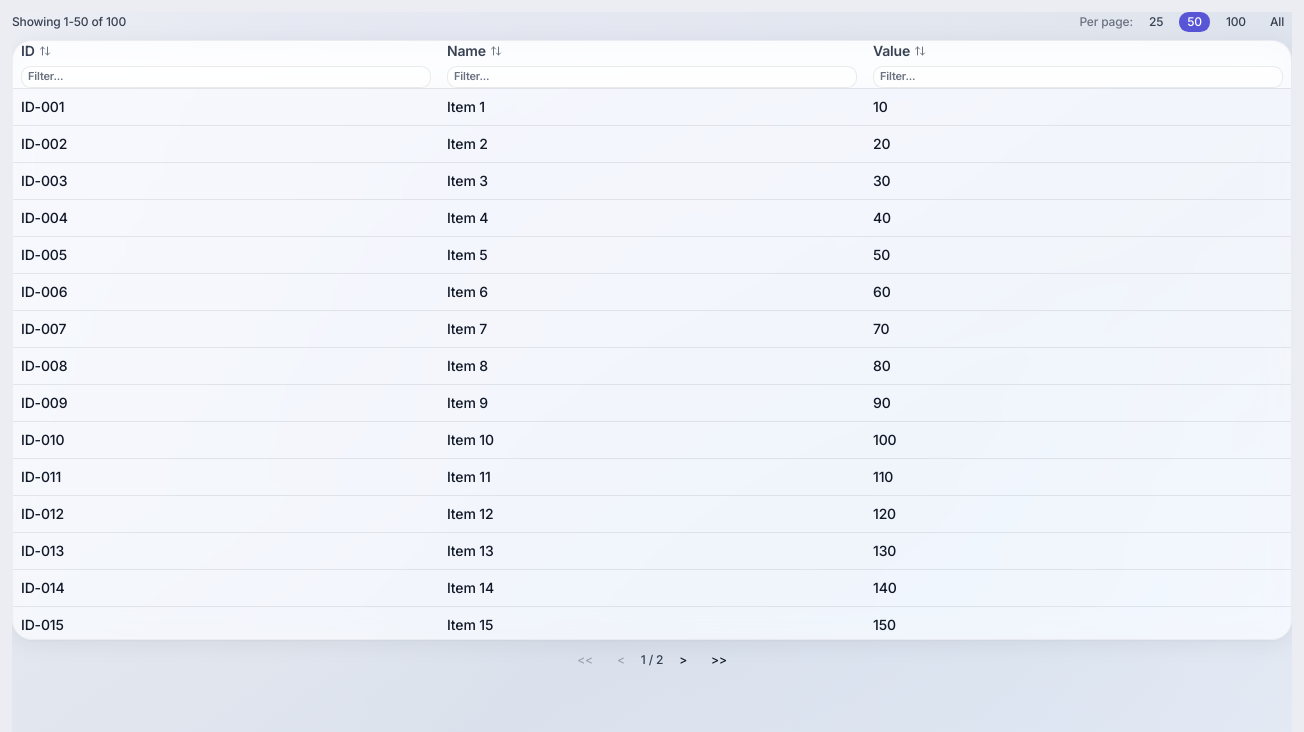
Scenario: DataTable › changes page size when a size button is clicked
// Click page size 25
Click the button "25". click: (1156, 22)
box: [1141,12,1171,32]
(page scrolled)
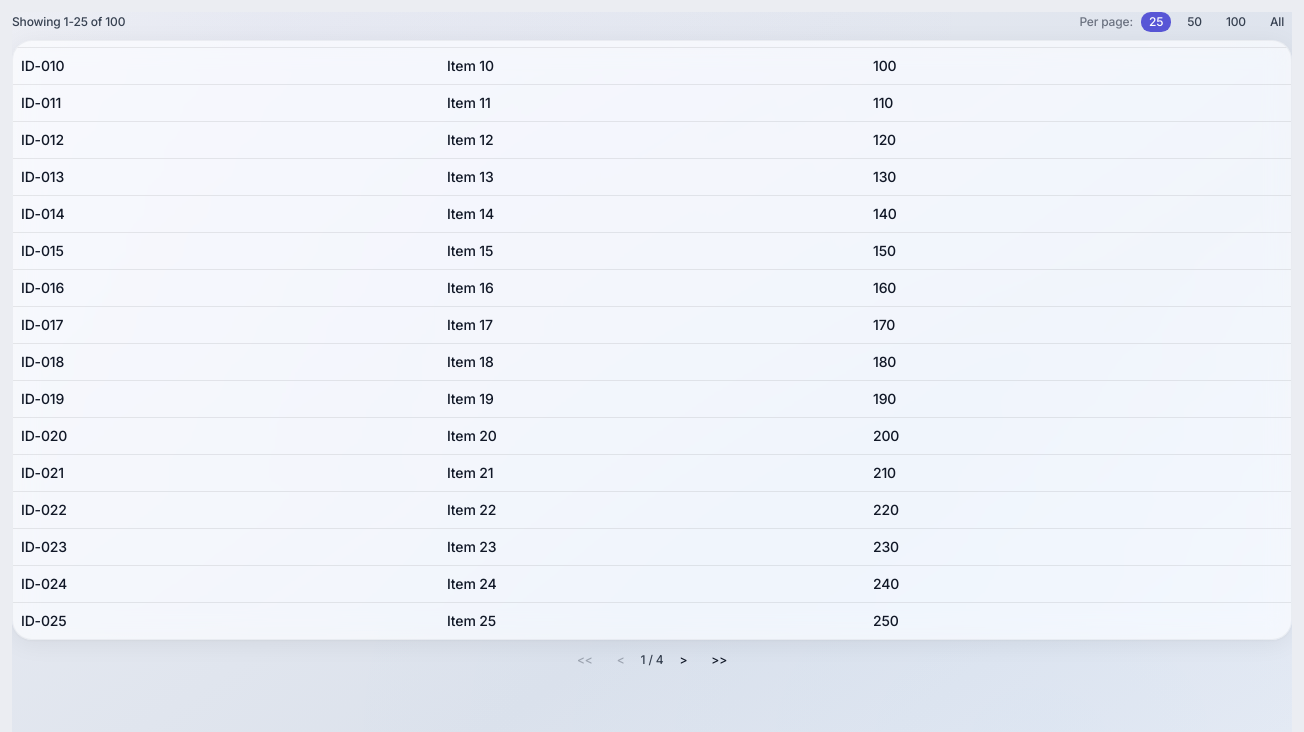
Result: the text "ID-025" is shown at [13,602,439,639]
